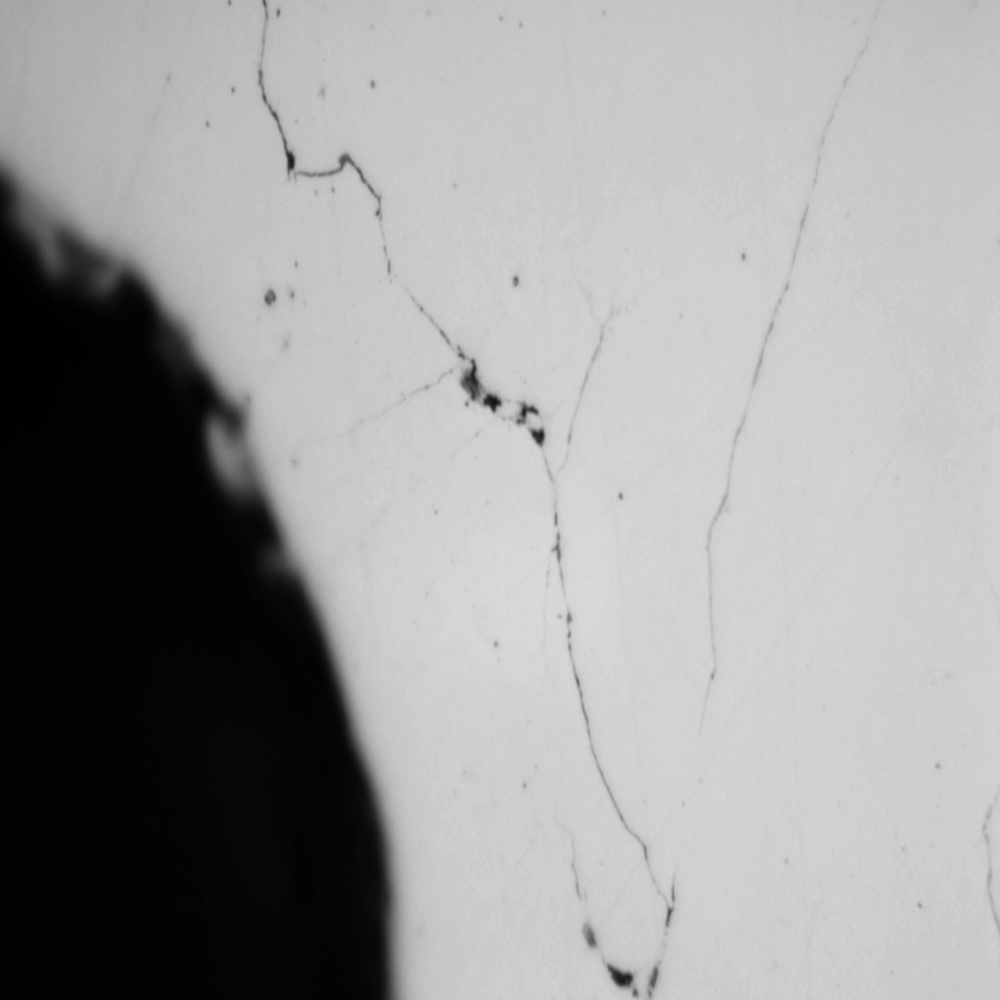crack: (238, 10, 880, 984)
